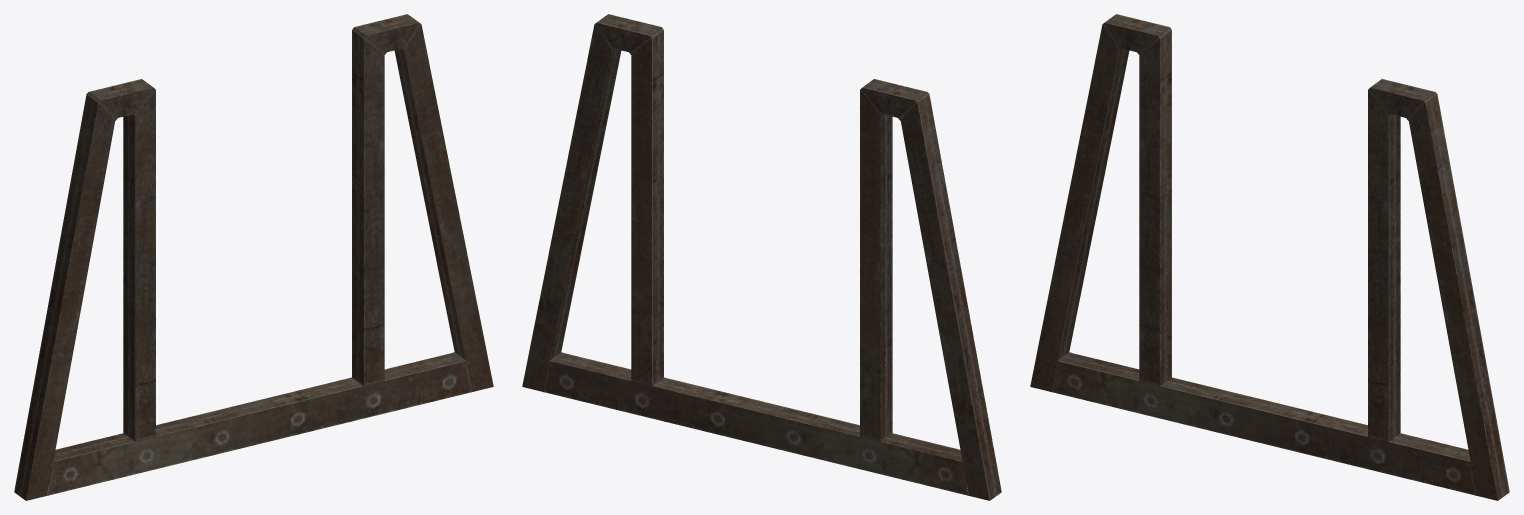
The model's file is SM_Corridor_Pipe_Handle_Brown_A.fbx.
3 views of the same model, side by side, from view 1: azimuth 30°, elevation 25°; view 2: azimuth 150°, elevation 25°; view 3: azimuth 330°, elevation 25° (orthographic).
Parts seen in each view (by area): view 1: SM_Corridor_Pipe_Handle_Brown_A; view 2: SM_Corridor_Pipe_Handle_Brown_A; view 3: SM_Corridor_Pipe_Handle_Brown_A.
Part boxes in pixels (x1=…): SM_Corridor_Pipe_Handle_Brown_A: x1=14, y1=14, x2=493, y2=500; SM_Corridor_Pipe_Handle_Brown_A: x1=522, y1=14, x2=1001, y2=500; SM_Corridor_Pipe_Handle_Brown_A: x1=1030, y1=14, x2=1509, y2=500.
Bounding box in the file's own units: 45.29 × 35.37 × 2.05.
